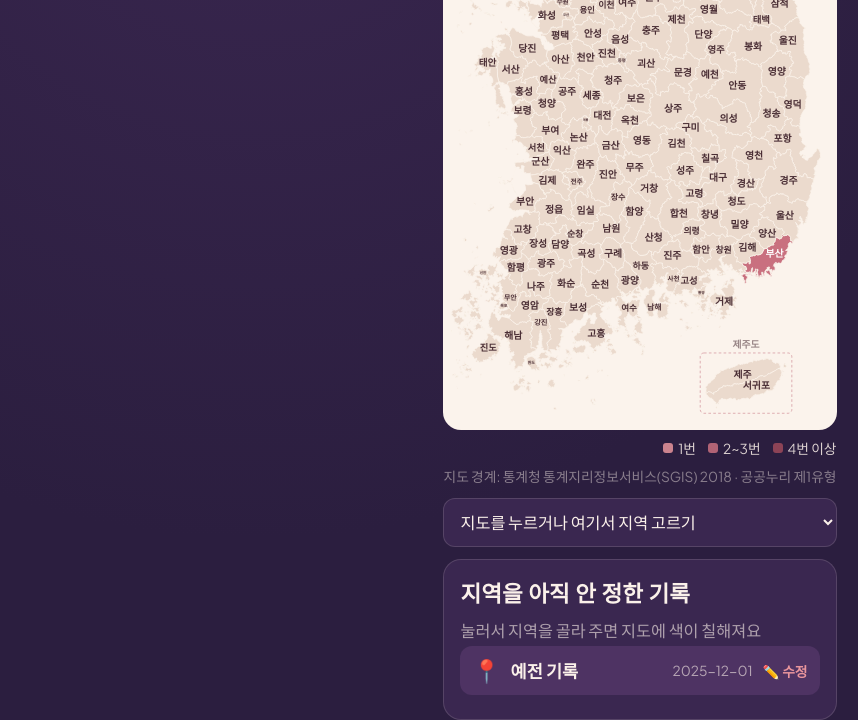
Test: MapView › reaches an area from the list too, for the ones too small to press
(page scrolled)
Select "경기 구리시" in the dropdown named "지역 고르기": {"x": 640, "y": 523} [444,498,836,547]
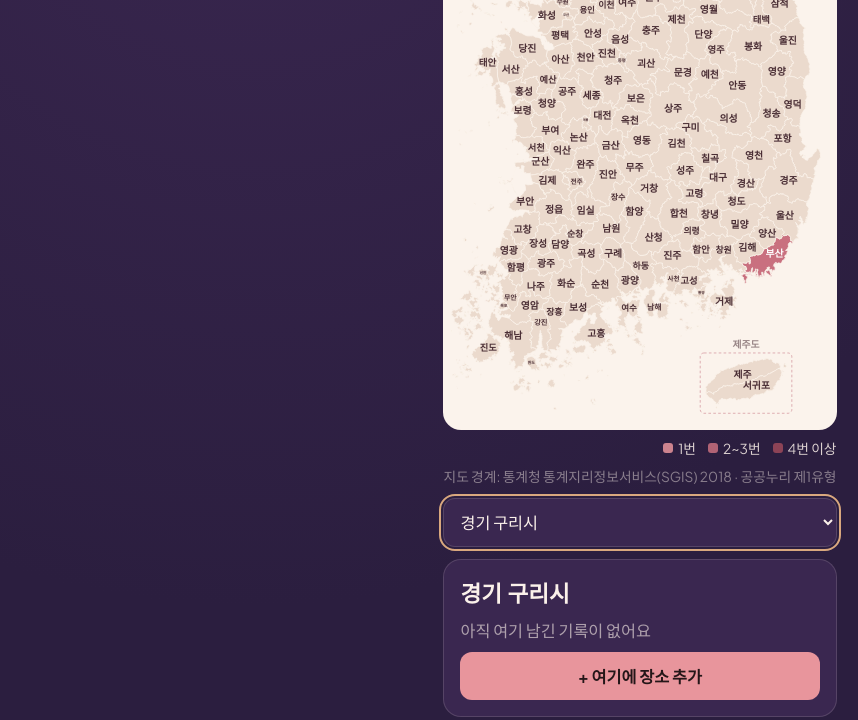
Expected: the text "경기 구리시" is shown, [460,582,570,607]
Expected: the button "+ 여기에 장소 추가" is shown, [460,652,820,700]
